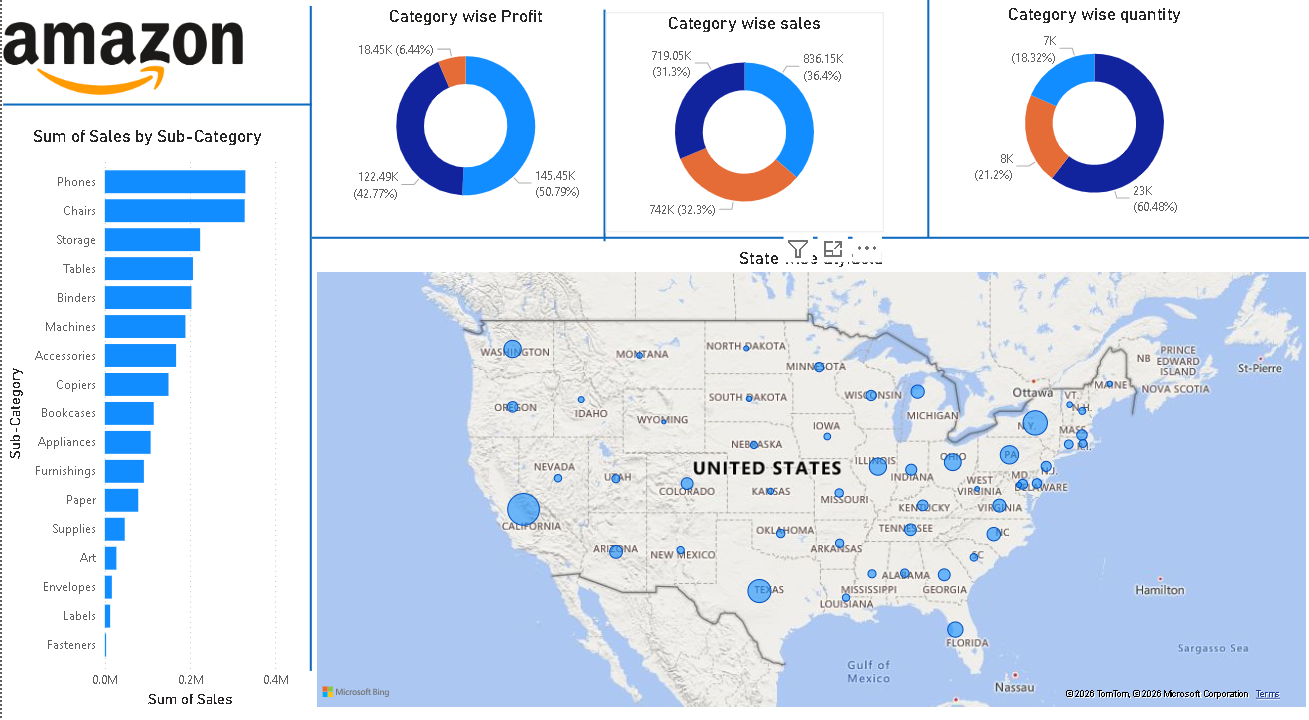

This screenshot's page, from the dashboard's own definition file:
{"tool":"powerbi","page":{"name":"Page 1","canvas":[1280,720],"ordinal":0},"visuals":[{"type":"image","box":[1.4,0,234.6,131.7],"z":0},{"type":"shape","box":[1.4,90.6,301.9,41.2],"z":1000},{"type":"clusteredBarChart","fields":{"Category":["Orders.Sub-Category"],"Y":["Sum(Orders.Sales)"]},"box":[0,131.7,285.4,573.6],"z":2000},{"type":"shape","box":[285.4,15.1,34.3,650.4],"z":3000},{"type":"map","title":"State wise Qty.Sold","fields":{"Category":["Orders.State"],"Size":["Sum(Orders.Quantity)"]},"box":[303.3,251.1,977,454.2],"z":4000},{"type":"shape","box":[303.3,230.5,977,20.6],"z":4001},{"type":"donutChart","title":"Category wise Profit","fields":{"Category":["Orders.Category"],"Y":["Sum(Orders.Profit)"]},"box":[318.4,15.1,271.7,215.4],"z":4002},{"type":"shape","box":[572.2,17.8,34.3,226.4],"z":4003},{"type":"donutChart","title":"Category wise sales","fields":{"Category":["Orders.Category"],"Y":["Sum(Orders.Sales)"]},"box":[590.1,20.6,271.7,215.4],"z":4004},{"type":"shape","box":[900.2,0,12.3,241.5],"z":4005},{"type":"donutChart","title":"Category wise quantity","fields":{"Category":["Orders.Category"],"Y":["Sum(Orders.Quantity)"]},"box":[933.1,12.3,271.7,215.4],"z":4006}]}

Visuals, with their boxes in screenshot pixels (x1, y1, x2, y2), scaled from the page's 1280x720 canvas onto the 1309x720 screenshot:
image: 1, 0, 241, 132
shape: 1, 91, 310, 132
clusteredBarChart - Orders.Sub-Category x Sum(Orders.Sales): 0, 132, 292, 705
shape: 292, 15, 327, 666
"State wise Qty.Sold" map: 310, 251, 1308, 705
shape: 310, 230, 1308, 251
"Category wise Profit" donutChart: 326, 15, 603, 230
shape: 585, 18, 620, 244
"Category wise sales" donutChart: 603, 21, 881, 236
shape: 921, 0, 933, 242
"Category wise quantity" donutChart: 954, 12, 1232, 228
